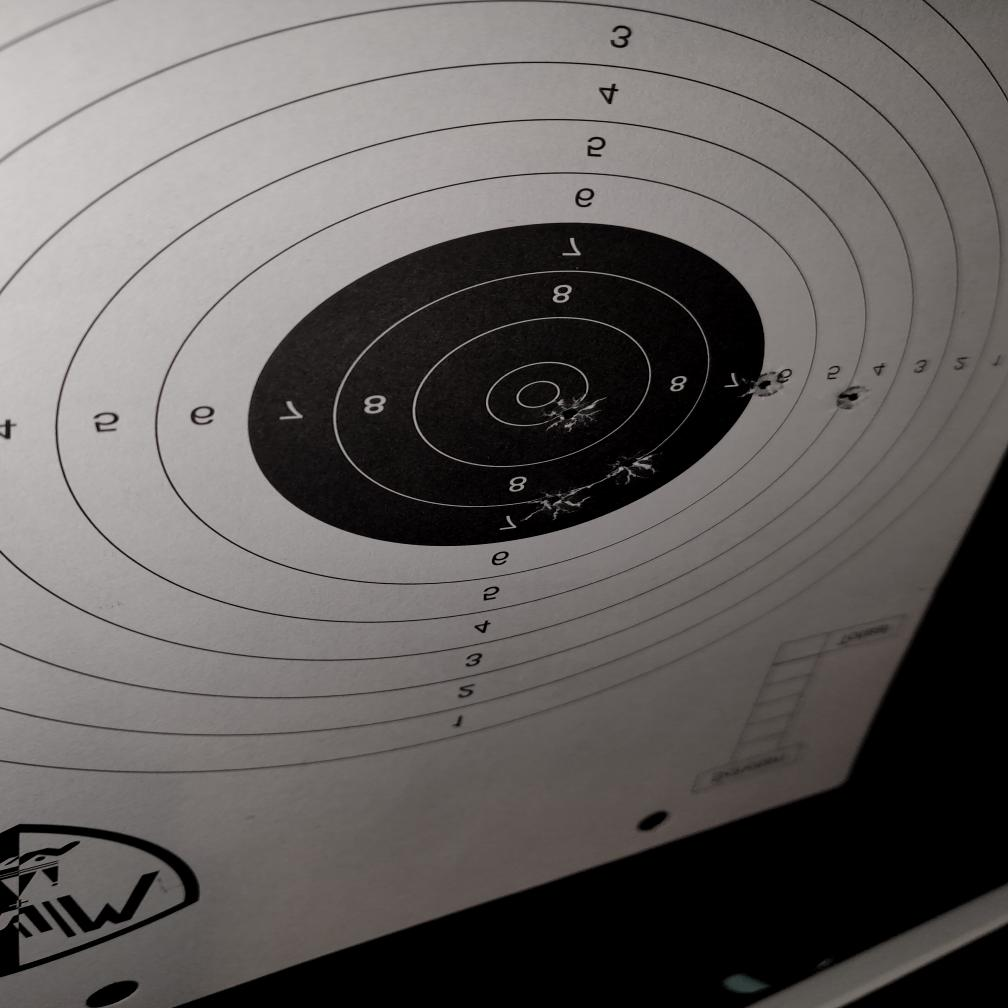10: (538, 397, 608, 434)
5: (828, 385, 874, 412)
7: (736, 370, 791, 400)
8: (519, 483, 596, 523), (603, 450, 666, 487)
Target: (0, 0, 1008, 776)
black_contour: (248, 221, 769, 550)
